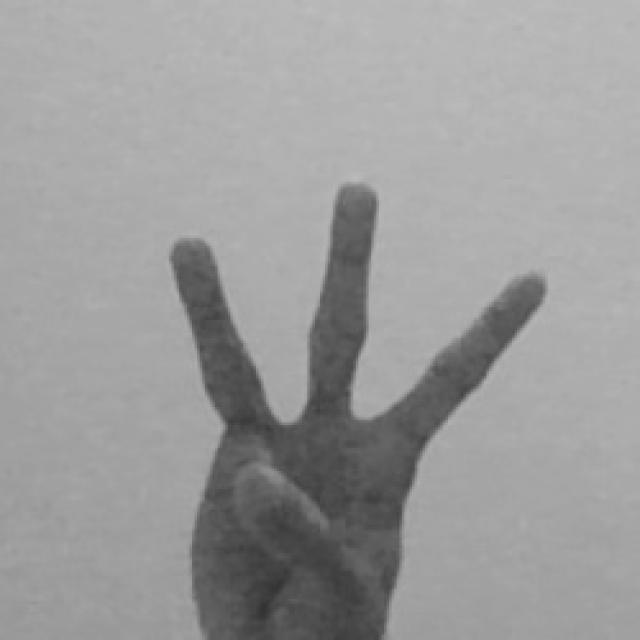W: (158, 171, 550, 640)
